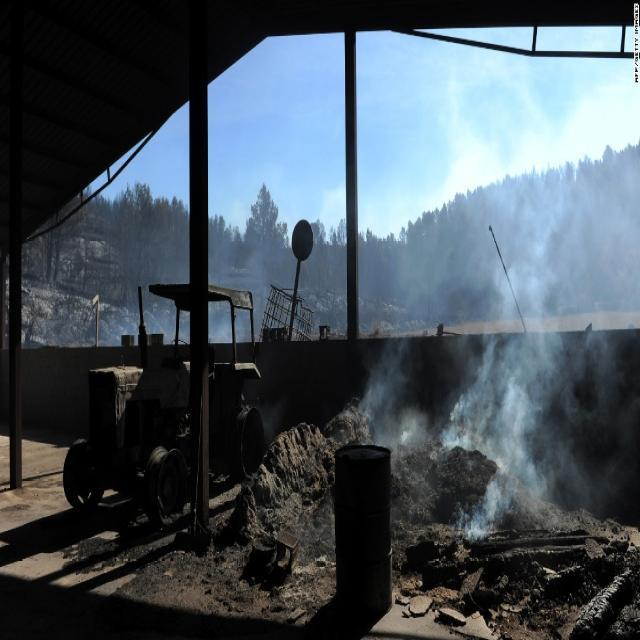Smoke: (432, 155, 632, 547)
